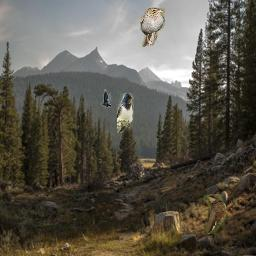Crow: (101, 89, 111, 109)
Cuckoo: (203, 194, 226, 234)
Sparrow: (140, 7, 165, 47)
Swallow: (117, 93, 134, 133)
